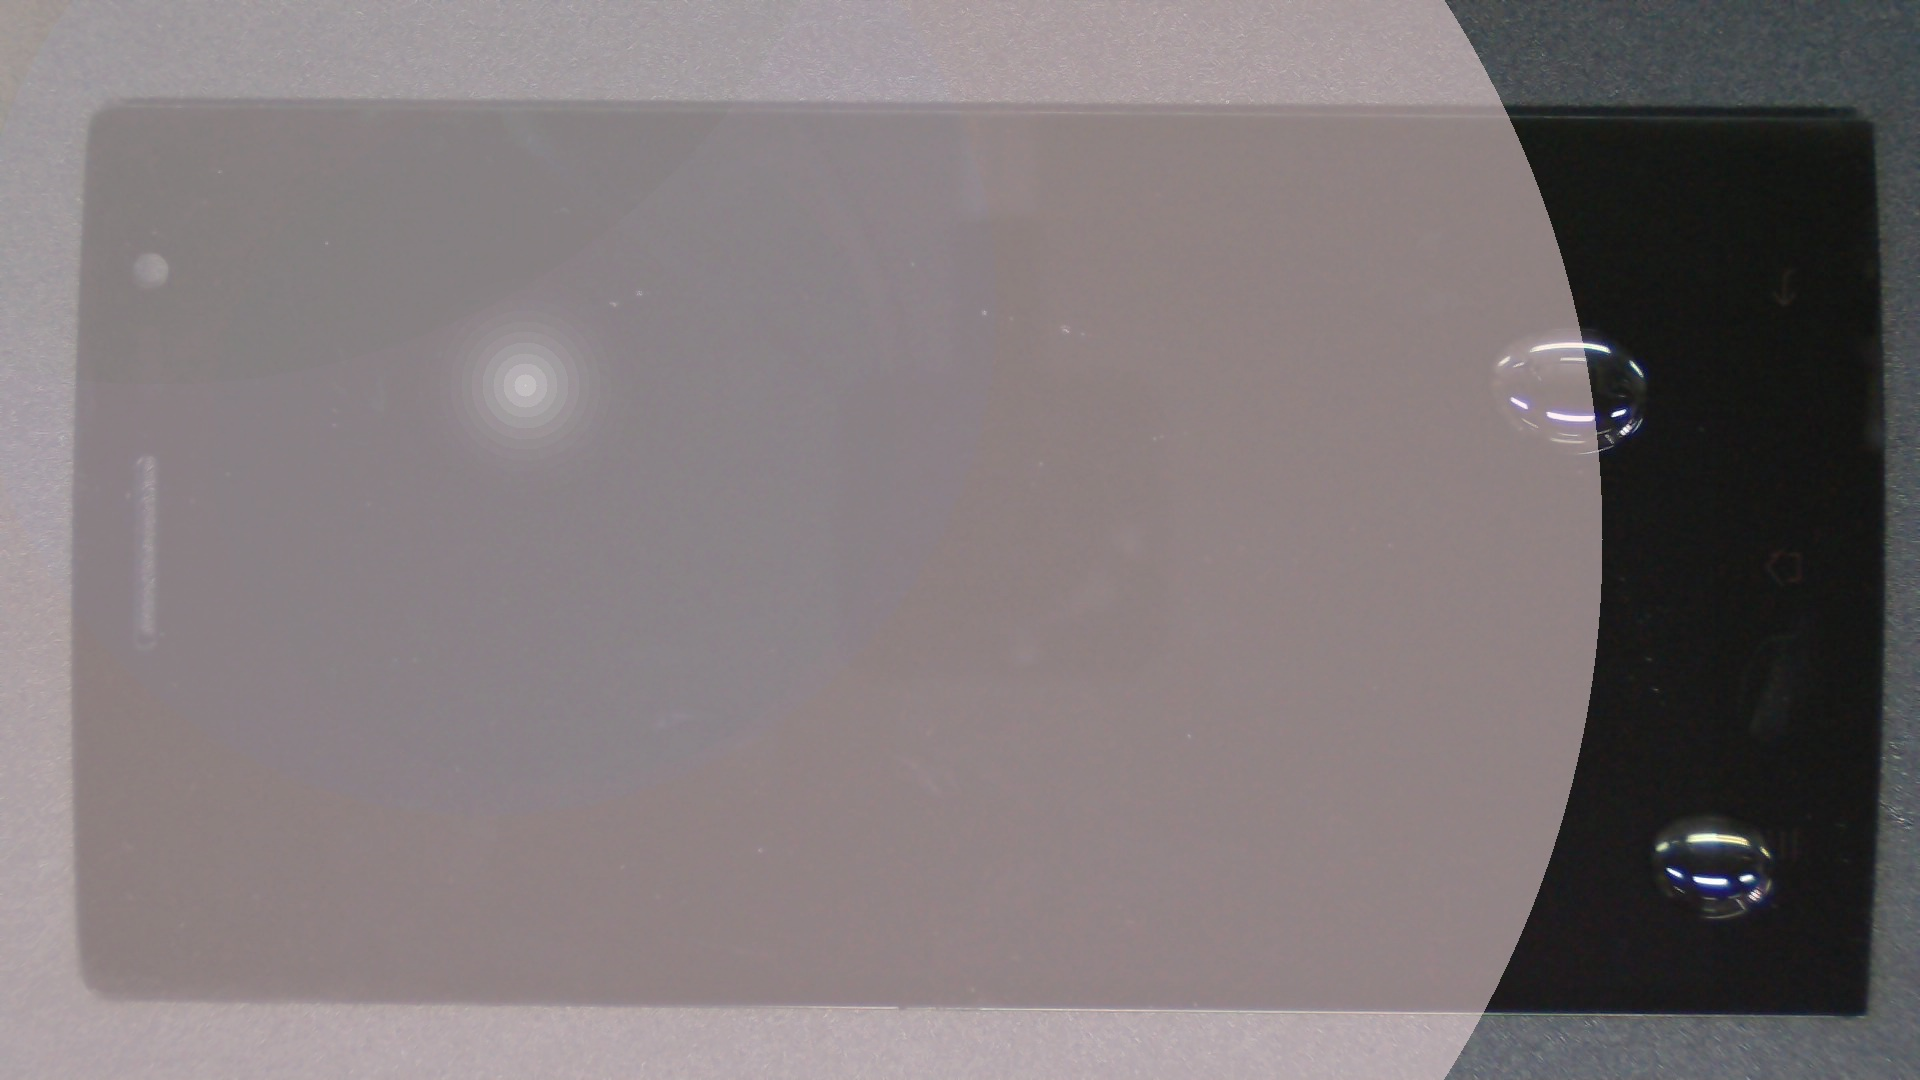oil: (853, 407, 1920, 1080), (782, 164, 1920, 495)
